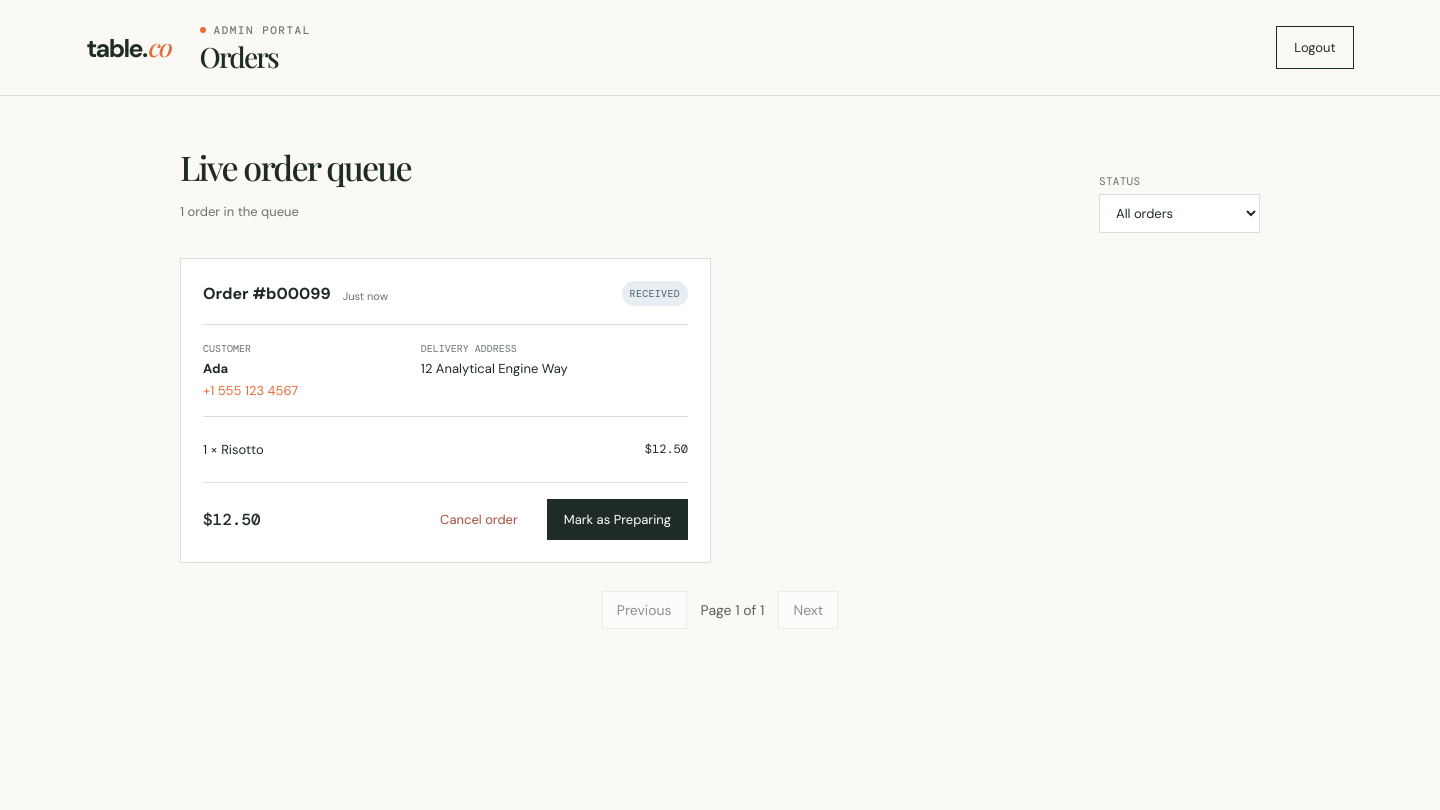
it: admin orders › renders incoming order details, advances one server-selected step per click, and stops at delivered
The image size is (1440, 810).
Expected: the text "Ada" is shown, [203, 360, 228, 377]
Expected: the text "12 Analytical Engine Way" is shown, [421, 360, 568, 377]
Step 1. Click the button "Mark as Preparing" → click(617, 520), box [547, 499, 688, 540]
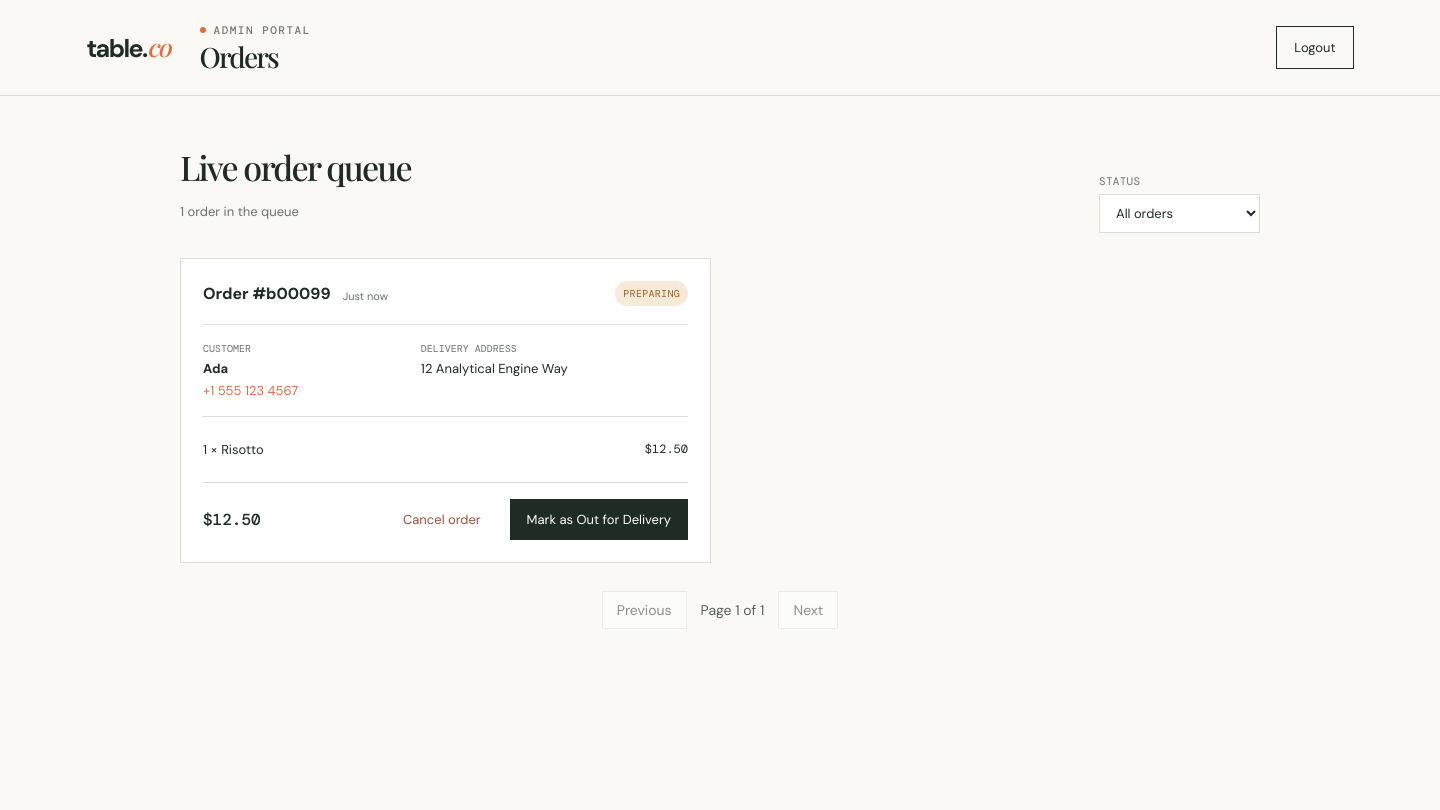
Result: the text "PREPARING" is shown at [615, 281, 688, 306]
Step 2. Click the button "Mark as Out for Delivery" → click(599, 520), box [510, 499, 688, 540]
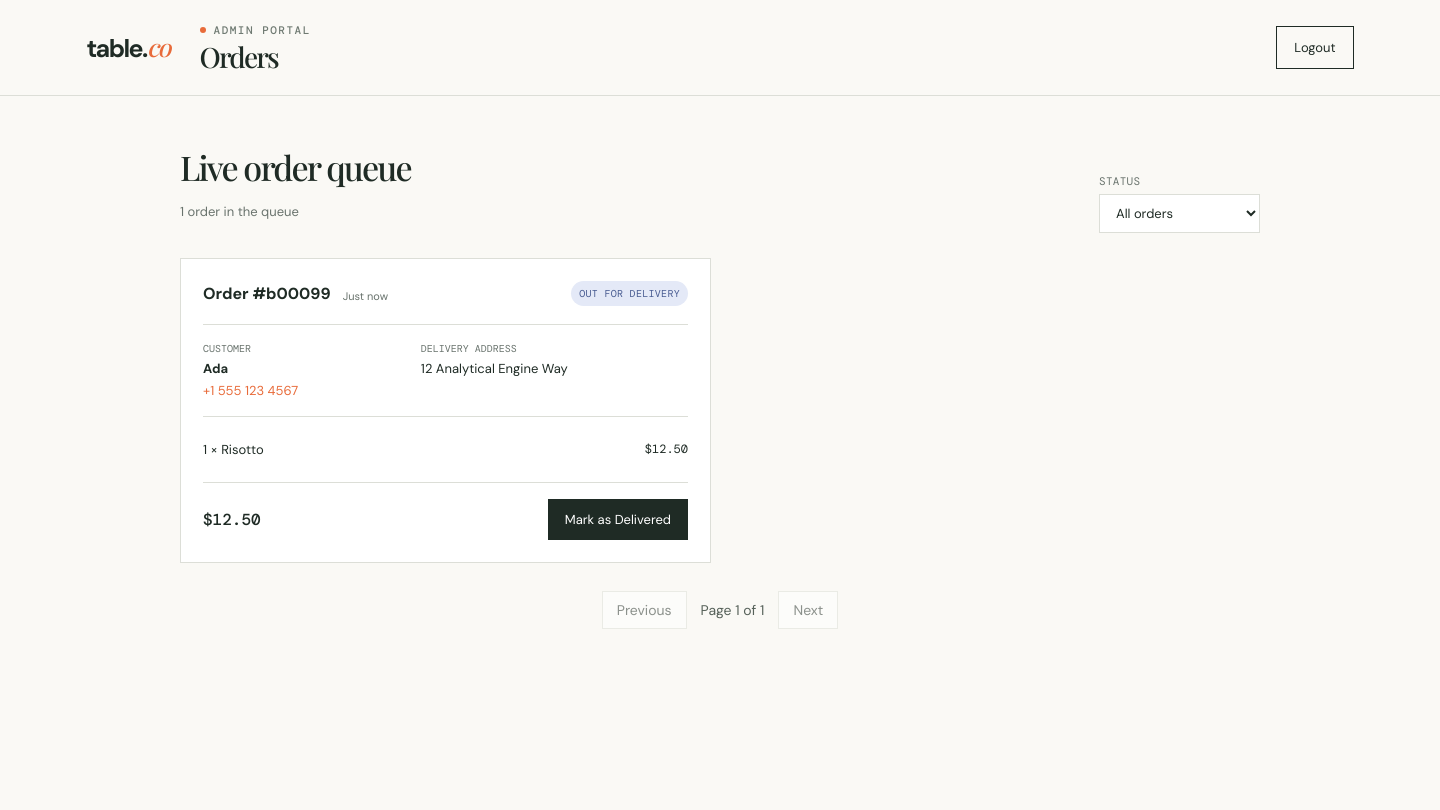
Result: the text "OUT FOR DELIVERY" is shown at [571, 281, 688, 306]
Step 3. Click the button "Mark as Delivered" → click(618, 520), box [548, 499, 688, 540]
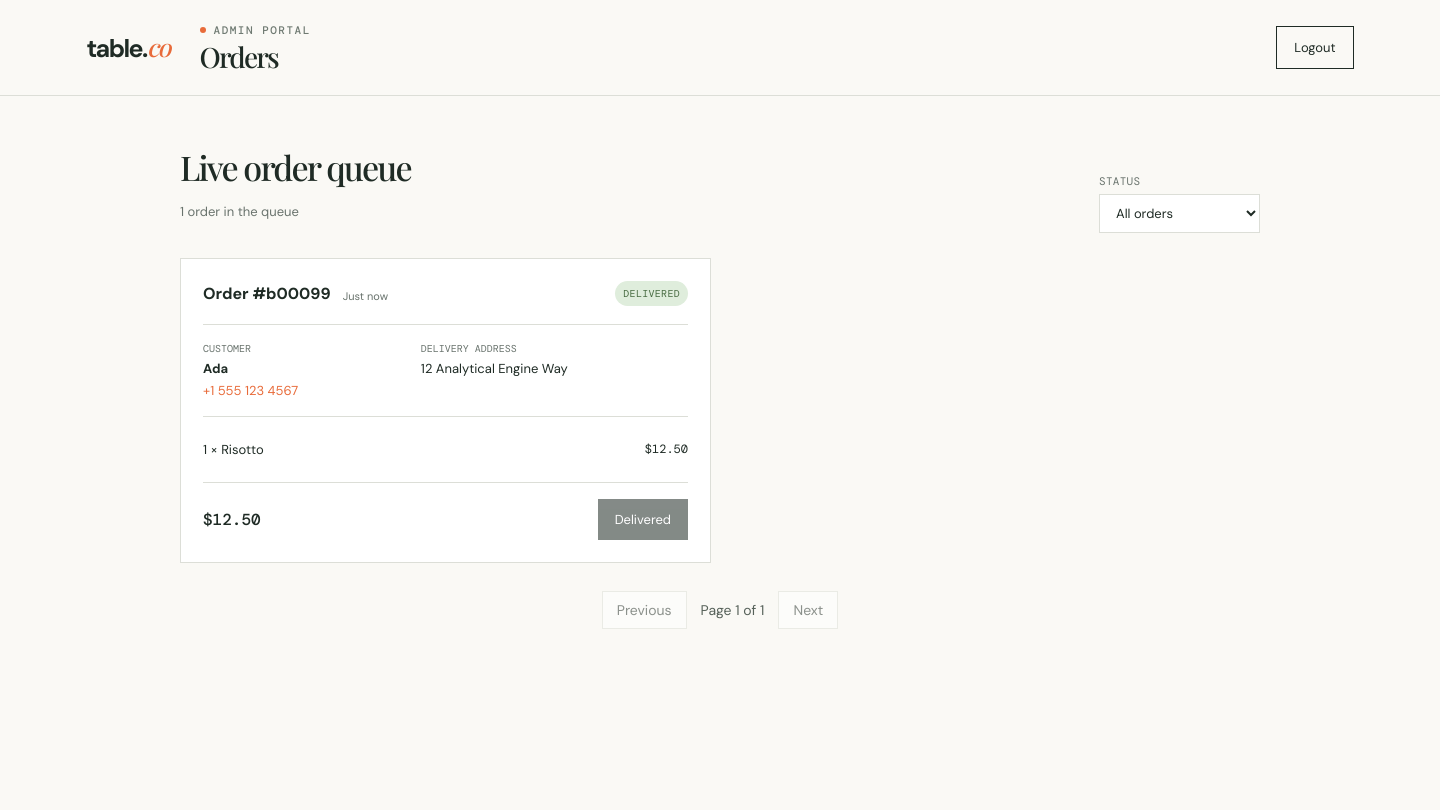
Result: the button "Delivered" is disabled at [598, 499, 688, 540]
